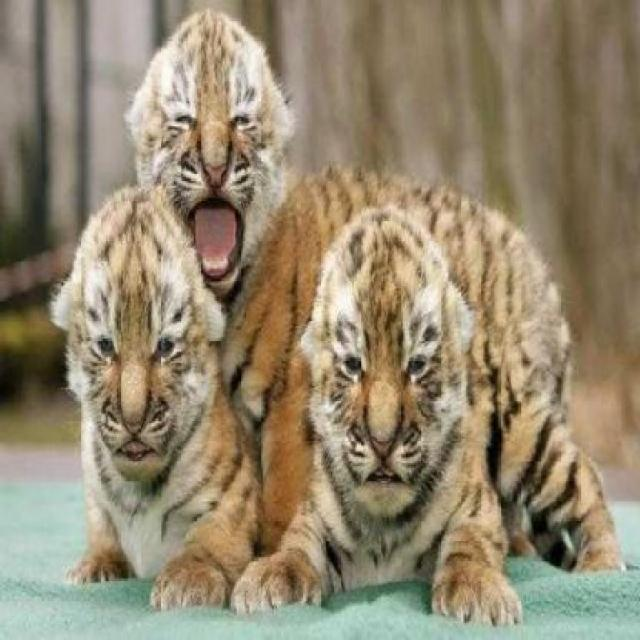Tiger: (266, 200, 606, 631), (31, 169, 258, 617), (107, 0, 330, 302)
